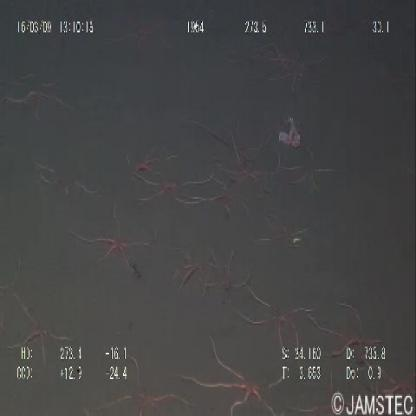Bio: (173, 328, 285, 414), (232, 274, 314, 362), (66, 194, 152, 276), (128, 150, 218, 216), (102, 348, 188, 414), (306, 296, 384, 367), (5, 285, 70, 367), (172, 236, 252, 302)
